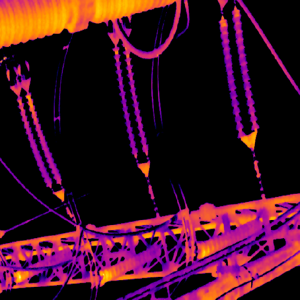insulator: (230, 6, 259, 131), (24, 88, 61, 184), (217, 13, 244, 136), (121, 39, 149, 155), (15, 95, 51, 185), (112, 42, 138, 159), (193, 217, 261, 256), (97, 243, 161, 282)
